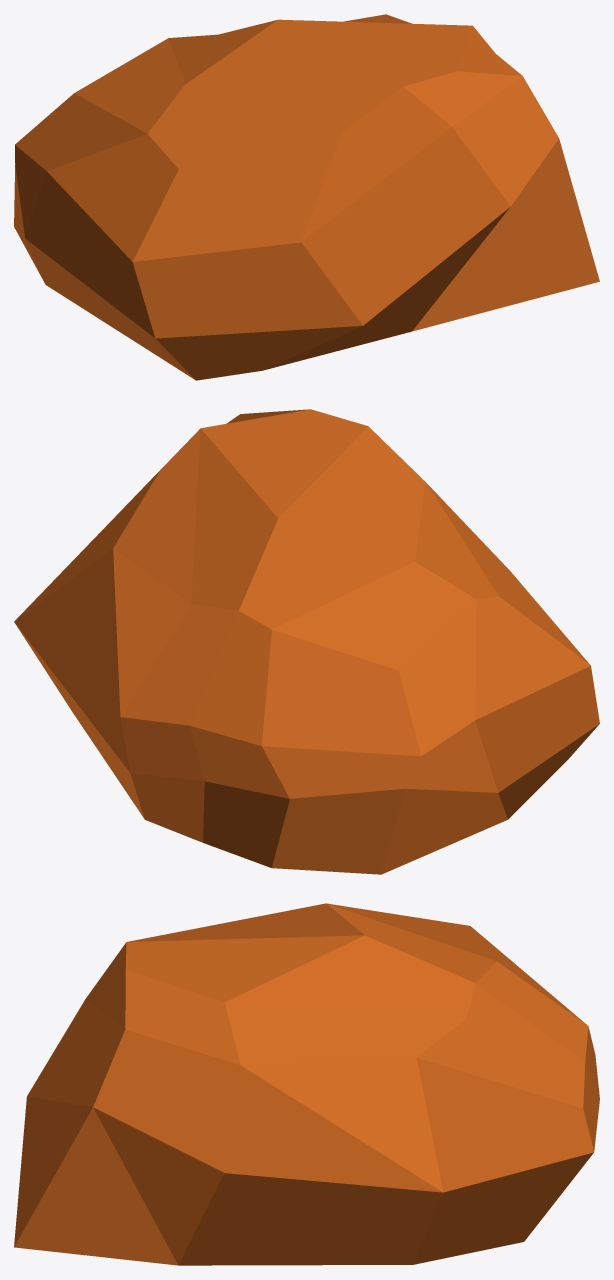
Rendered from copper_ore.fbx.
The picture shows the model from 3 angles, top to bottom: view 1: azimuth 30°, elevation 25°; view 2: azimuth 150°, elevation 25°; view 3: azimuth 270°, elevation 25°; orthographic projection. The views are drawn at different scales.
Visible parts, largest first — view 1: Cube.1462; view 2: Cube.1462; view 3: Cube.1462.
Boxes of the visible parts, x1,y1,x2,y2 form: Cube.1462: (14,14,599,380); Cube.1462: (14,409,599,874); Cube.1462: (14,903,599,1265).
Bounding box in the file's own units: 2178 × 1218 × 2200.
